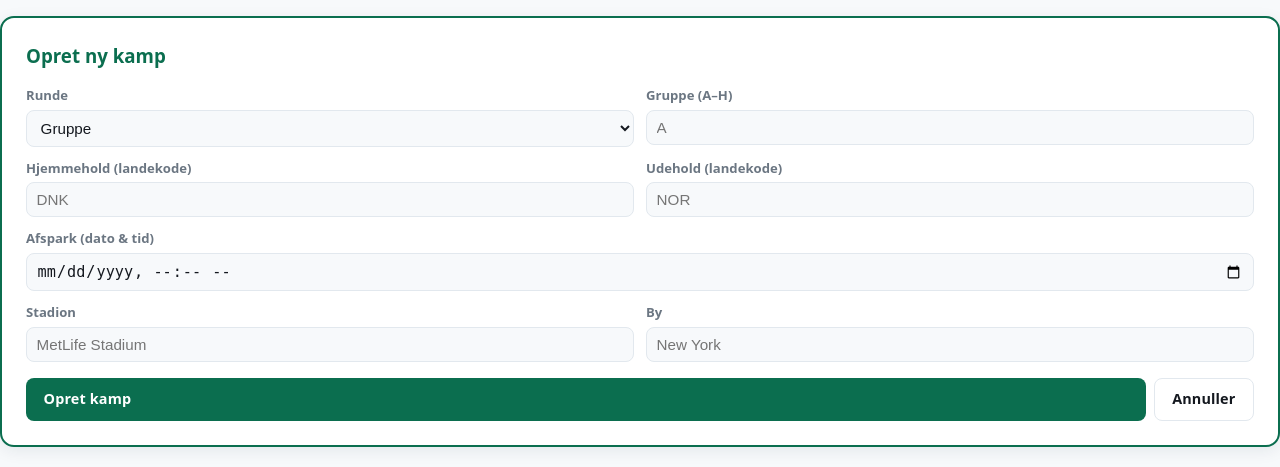
Test case: MatchCreateForm › skjuler Gruppe-label for knockout-runde
Step 1. Select "1/8-finale" in the dropdown → (330, 128), box [26,110,634,147]
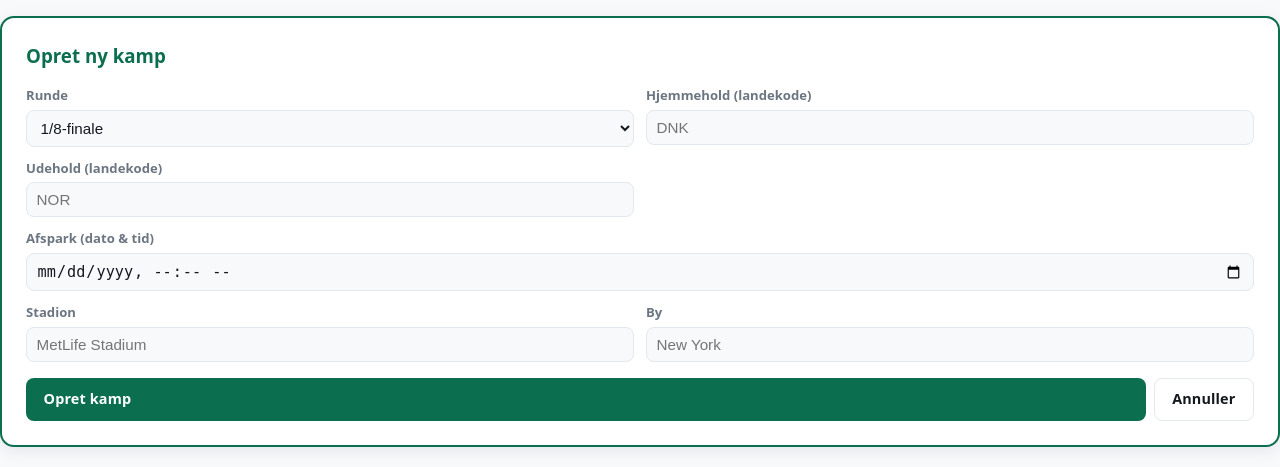
Result: the text "Gruppe (A" is gone
